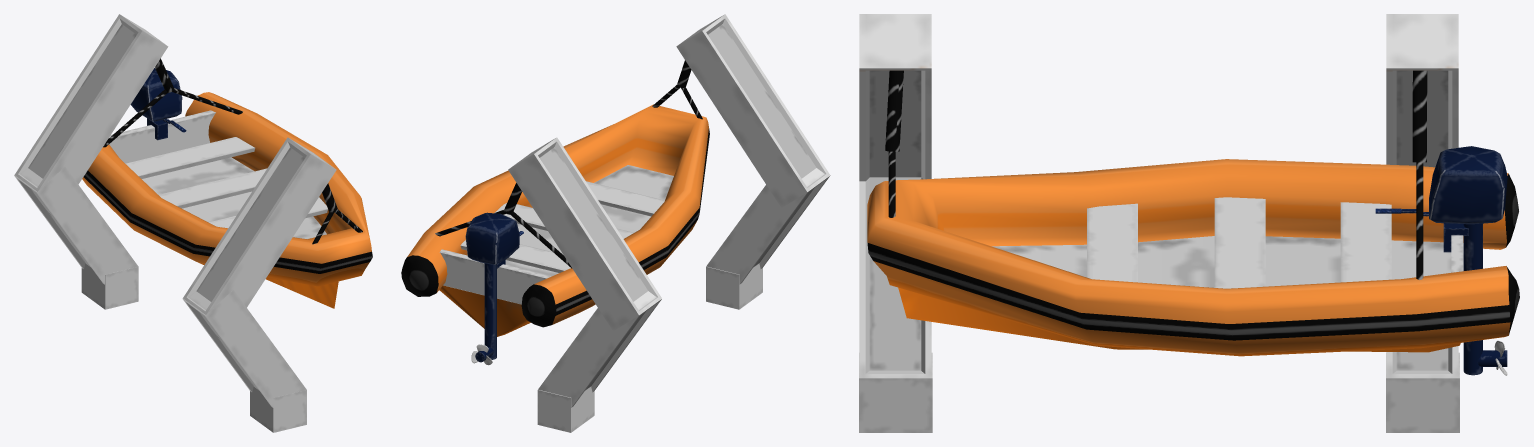
Rendered from Md_Boat.fbx.
3 views of the same model, side by side, from view 1: azimuth 30°, elevation 25°; view 2: azimuth 150°, elevation 25°; view 3: azimuth 270°, elevation 25° (orthographic). The views are drawn at different scales.
Parts seen in each view (by area): view 1: pCube1, pCube20, pCube17, pCube19, pCube21, pCube4, pCube7, pCube22, pCube18, pCube5, pCube8, pCube6 (+2 smaller); view 2: pCube1, pCube20, pCube17, pCube19, pCube21, pCube4, pCube8, pCube22, pCube18, pCube6, pCylinder1, pCube7 (+1 smaller); view 3: pCube1, pCube17, pCube20, pCube19, pCube8, pCube5, pCube18, pCube22, pCube7, pCube6, pCube21, pCylinder1 (+3 smaller).
Boxes of the visible parts, x1,y1,x2,y2 form: pCube1: [82, 92, 372, 308]; pCube20: [14, 14, 168, 191]; pCube17: [183, 137, 336, 314]; pCube19: [182, 290, 306, 407]; pCube21: [14, 167, 138, 284]; pCube4: [109, 110, 215, 163]; pCube7: [125, 137, 255, 178]; pCube22: [81, 263, 138, 309]; pCube18: [250, 387, 306, 432]; pCube5: [159, 168, 266, 208]; pCube8: [130, 68, 182, 121]; pCube6: [209, 197, 327, 228]; pCube1: [401, 104, 709, 336]; pCube20: [508, 137, 661, 330]; pCube17: [676, 14, 829, 207]; pCube19: [706, 168, 830, 284]; pCube21: [538, 291, 661, 407]; pCube4: [439, 249, 551, 304]; pCube8: [465, 212, 519, 264]; pCube22: [537, 386, 594, 432]; pCube18: [706, 263, 762, 309]; pCube6: [586, 181, 664, 216]; pCylinder1: [484, 263, 496, 359]; pCube7: [460, 240, 570, 272]; pCube1: [867, 159, 1519, 356]; pCube17: [859, 14, 931, 181]; pCube20: [1386, 14, 1458, 167]; pCube19: [859, 177, 931, 378]; pCube8: [1429, 146, 1507, 224]; pCube5: [1214, 197, 1265, 288]; pCube18: [859, 352, 932, 432]; pCube22: [1386, 352, 1459, 432]; pCube7: [1340, 202, 1391, 282]; pCube6: [1087, 203, 1137, 282]; pCube21: [1386, 346, 1458, 378]; pCylinder1: [1463, 223, 1482, 375].
Bounding box in the file's own units: 366 × 386 × 548.
